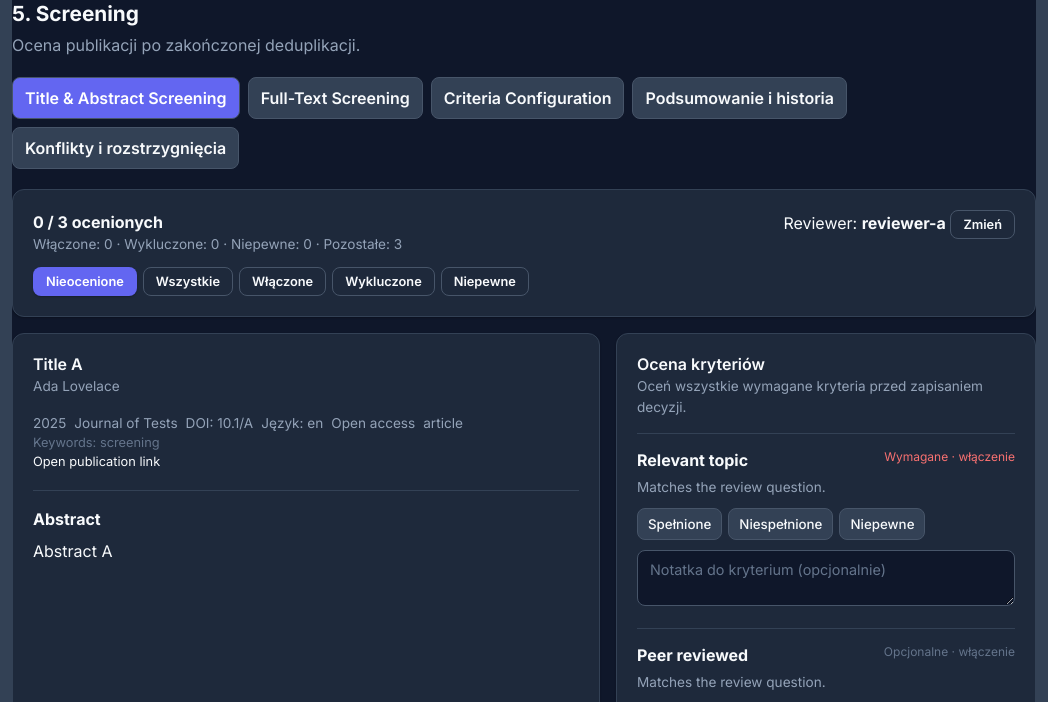
Test: Title & Abstract Screening GUI (Phase 7.5C) › Save & Next keeps UNSCREENED offset at zero and does not skip B after A is removed
The image size is (1048, 702).
Expected: the heading "Title A" is shown, [33, 354, 83, 374]
Click the button "Spełnione" below "Relevant topic". click: (680, 524)
box: [637, 508, 722, 540]
(page scrolled)
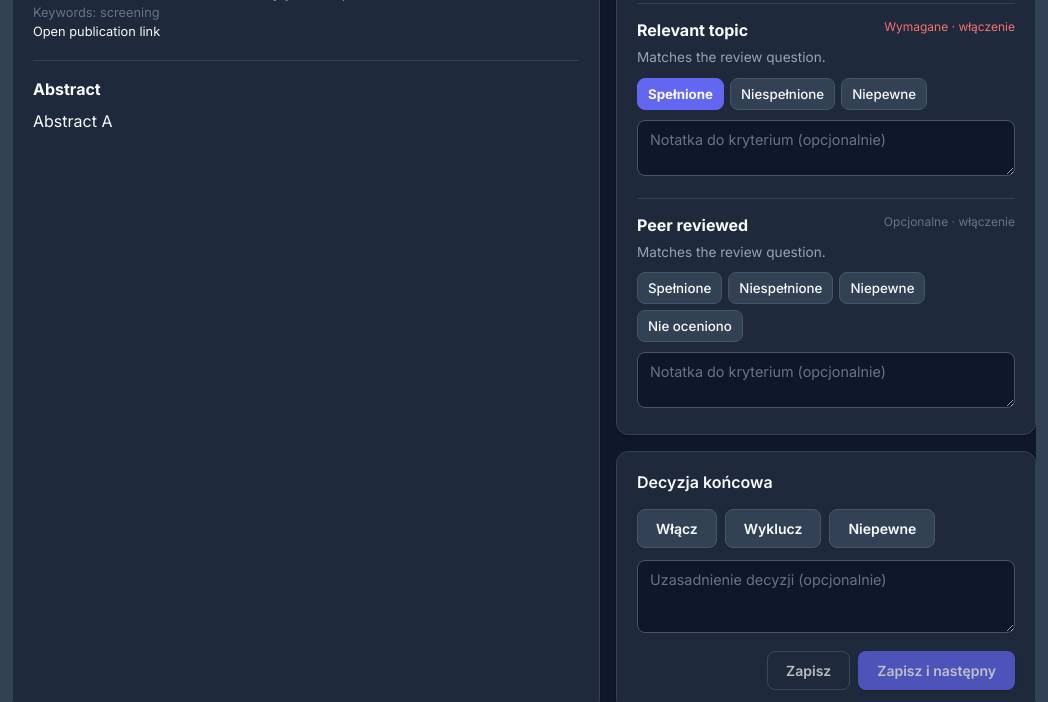
Click the button "Włącz". click: (677, 528)
box: [637, 509, 717, 548]
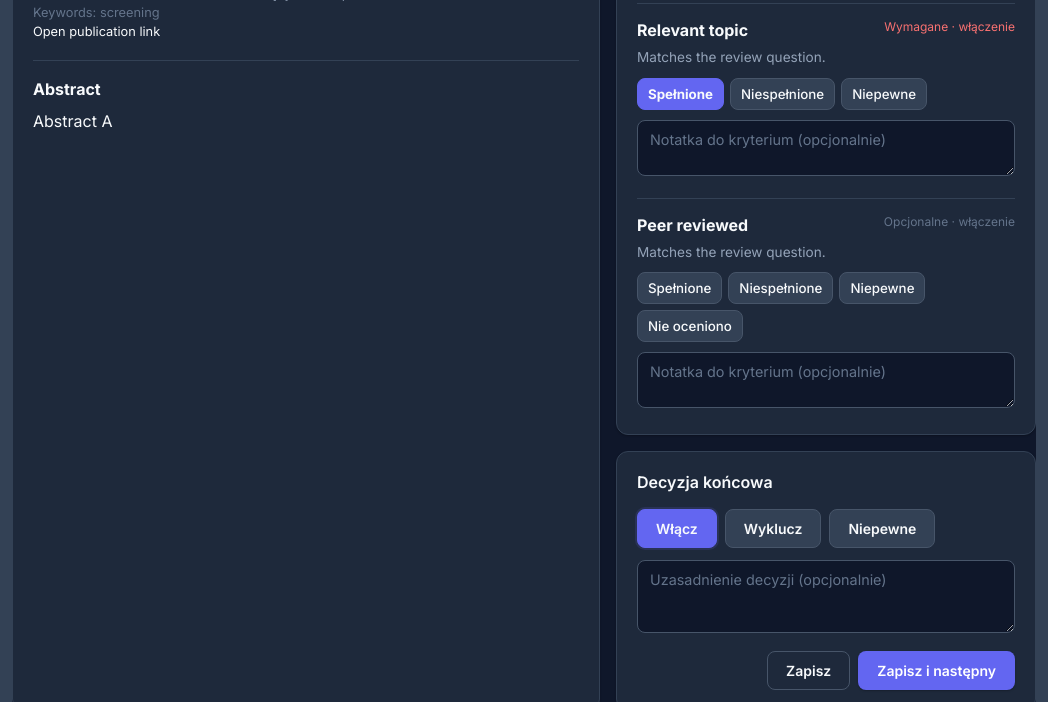
Click the button "Zapisz i następny". click: (937, 670)
box: [858, 651, 1015, 690]
(page scrolled)
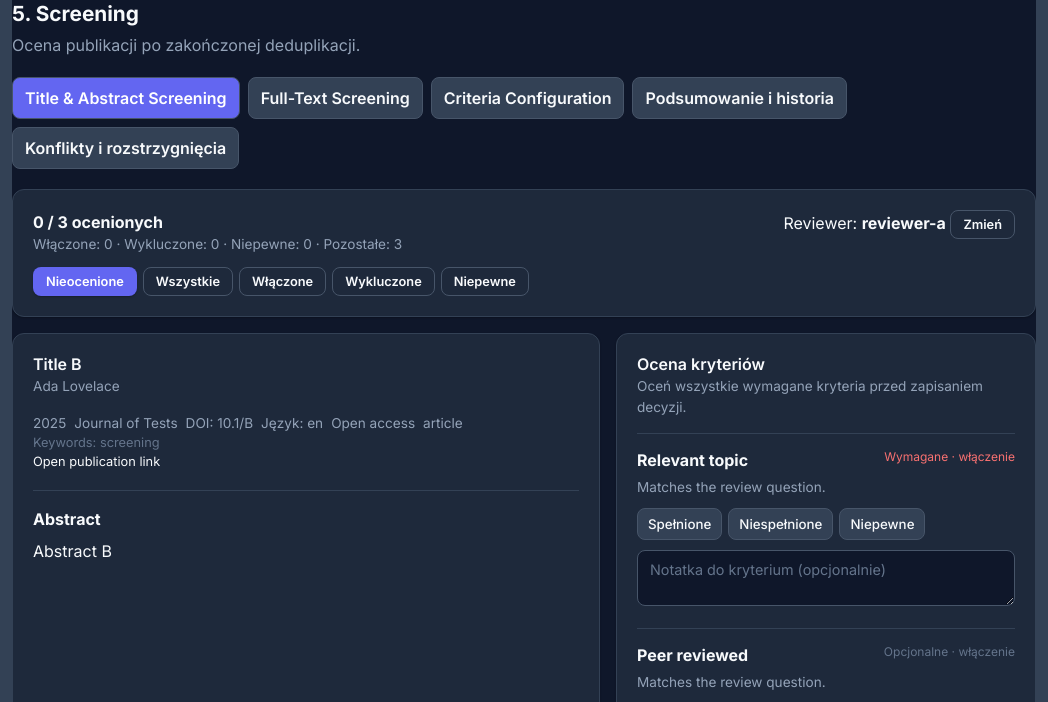
Expected: the heading "Title B" is shown, [33, 354, 82, 374]
